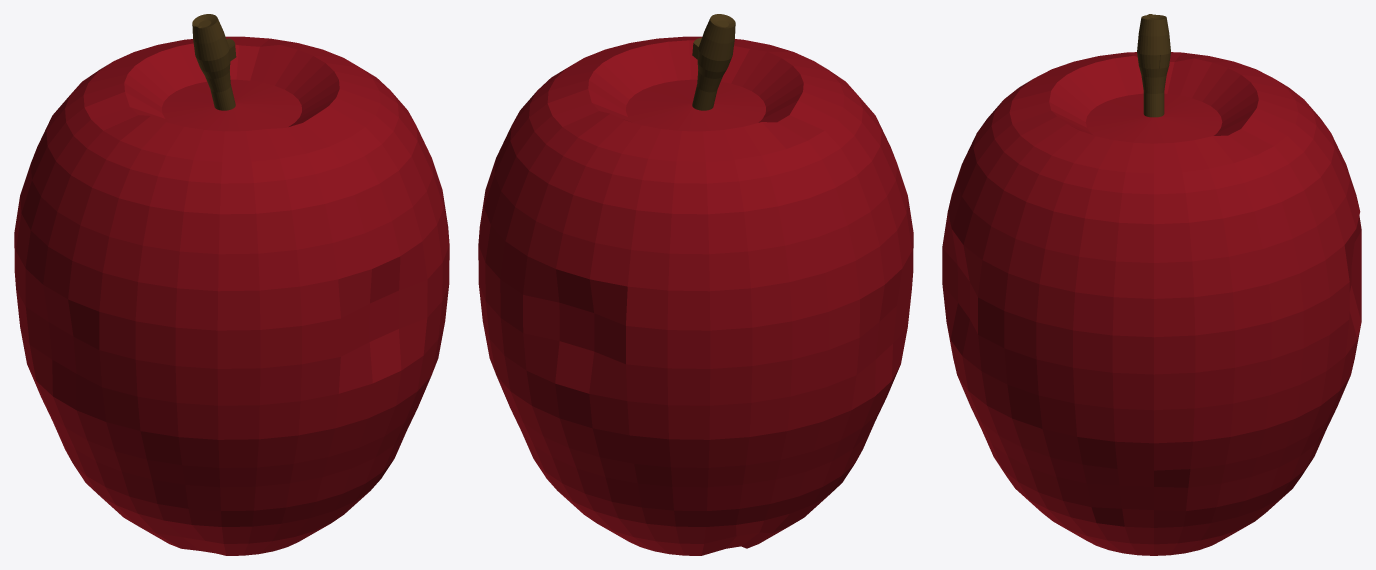
File: lwbaa_redapple.gltf
3 views of the same model, side by side, from view 1: azimuth 30°, elevation 25°; view 2: azimuth 150°, elevation 25°; view 3: azimuth 270°, elevation 25° (orthographic). The views are drawn at different scales.
Parts seen in each view (by area): view 1: Apple; view 2: Apple; view 3: Apple.
Boxes of the visible parts, left/top/right/bottom form: Apple: left=14, top=14, right=449, bottom=555; Apple: left=478, top=14, right=913, bottom=555; Apple: left=942, top=14, right=1361, bottom=555.
Size of the model in its own units: 0.3003 by 0.3922 by 0.2974.
